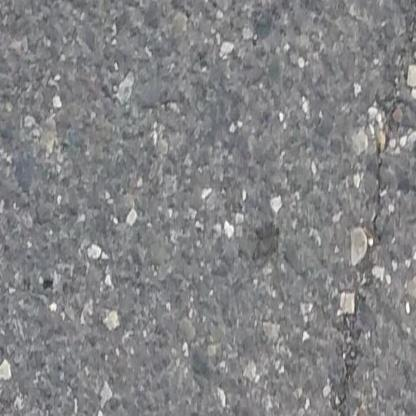Cracks: (370, 0, 416, 241), (330, 295, 366, 416)
